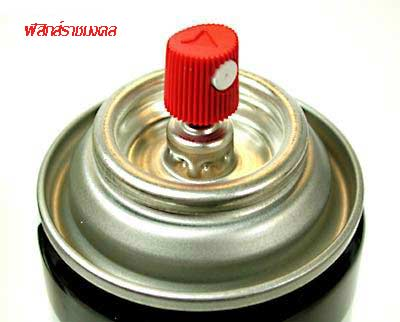Aerosol_cans: (33, 21, 369, 322)
